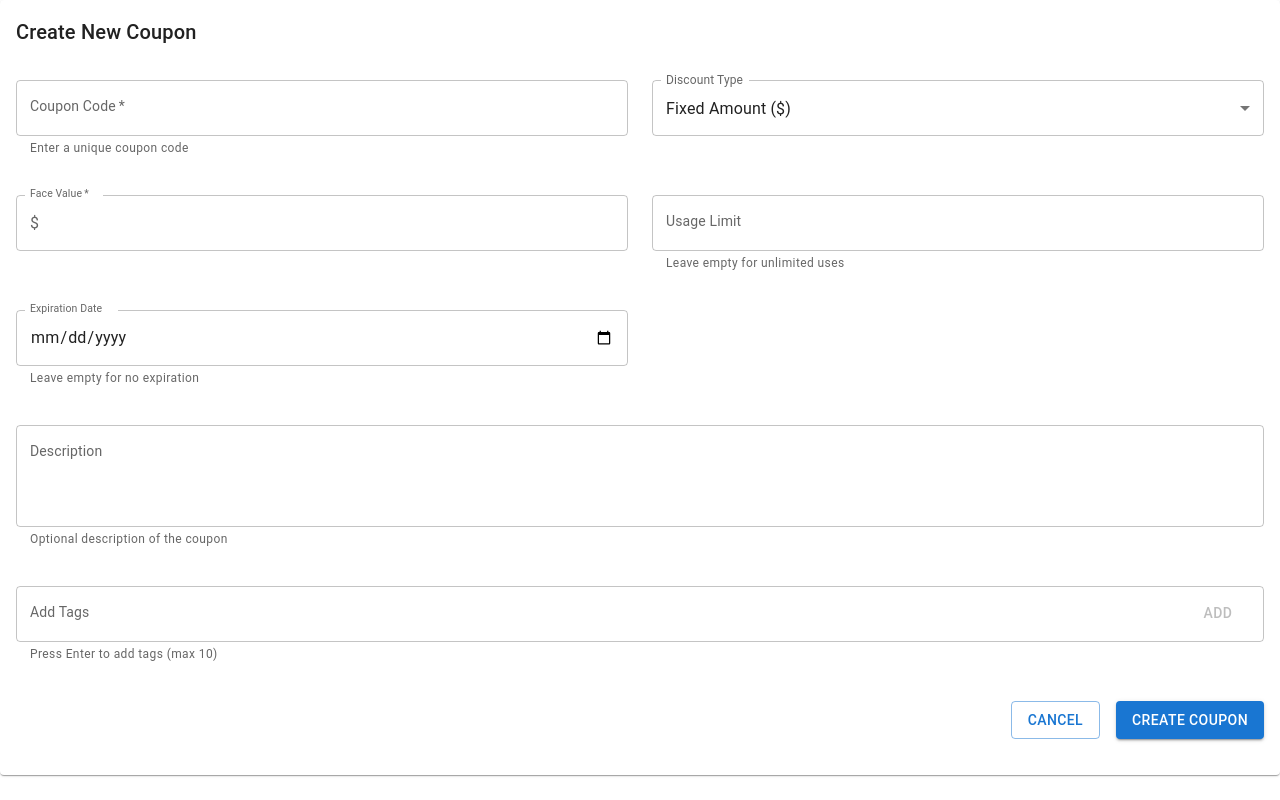
Test case: CouponForm Basic Tests › handles tag addition
Add a tag
Type "grocery" into the field labelled "Add Tags" at (597, 614), box [16, 586, 1178, 642]
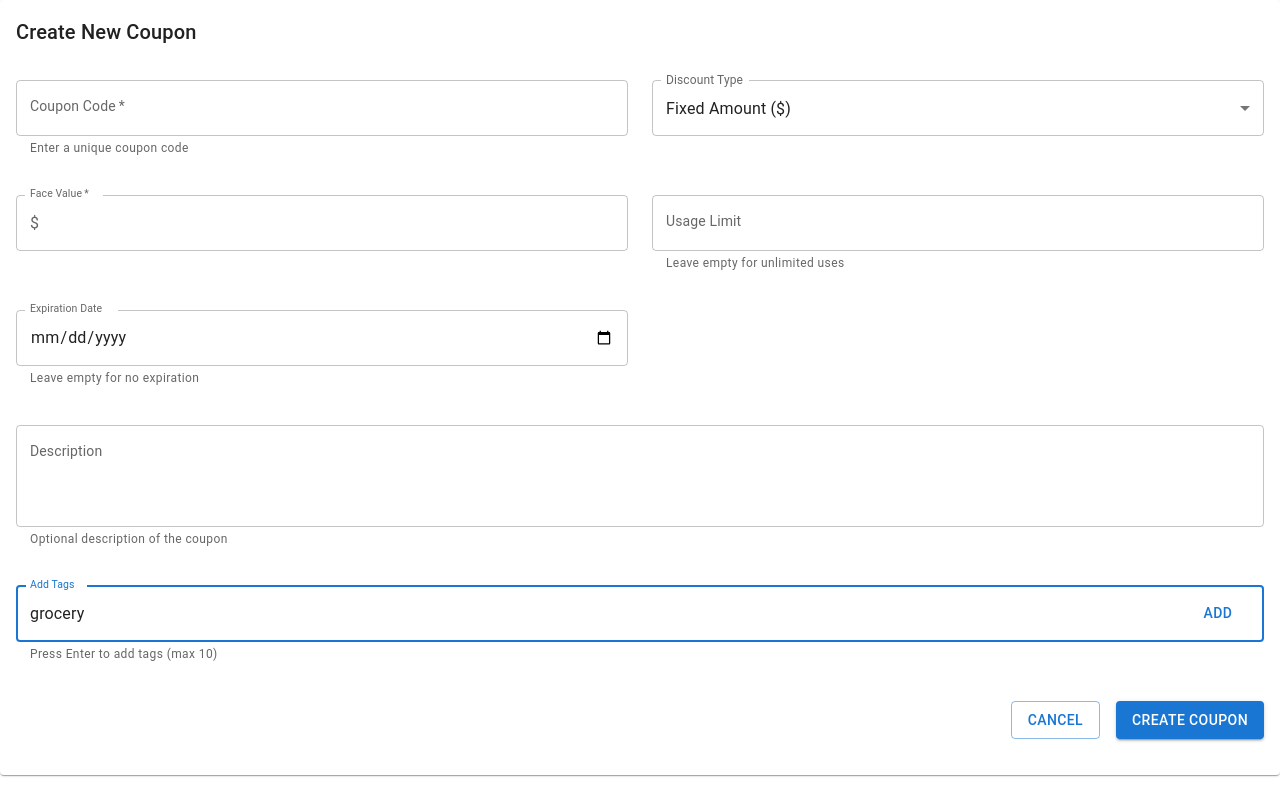
Click the button "Add" at (1218, 614), box [1186, 595, 1250, 632]
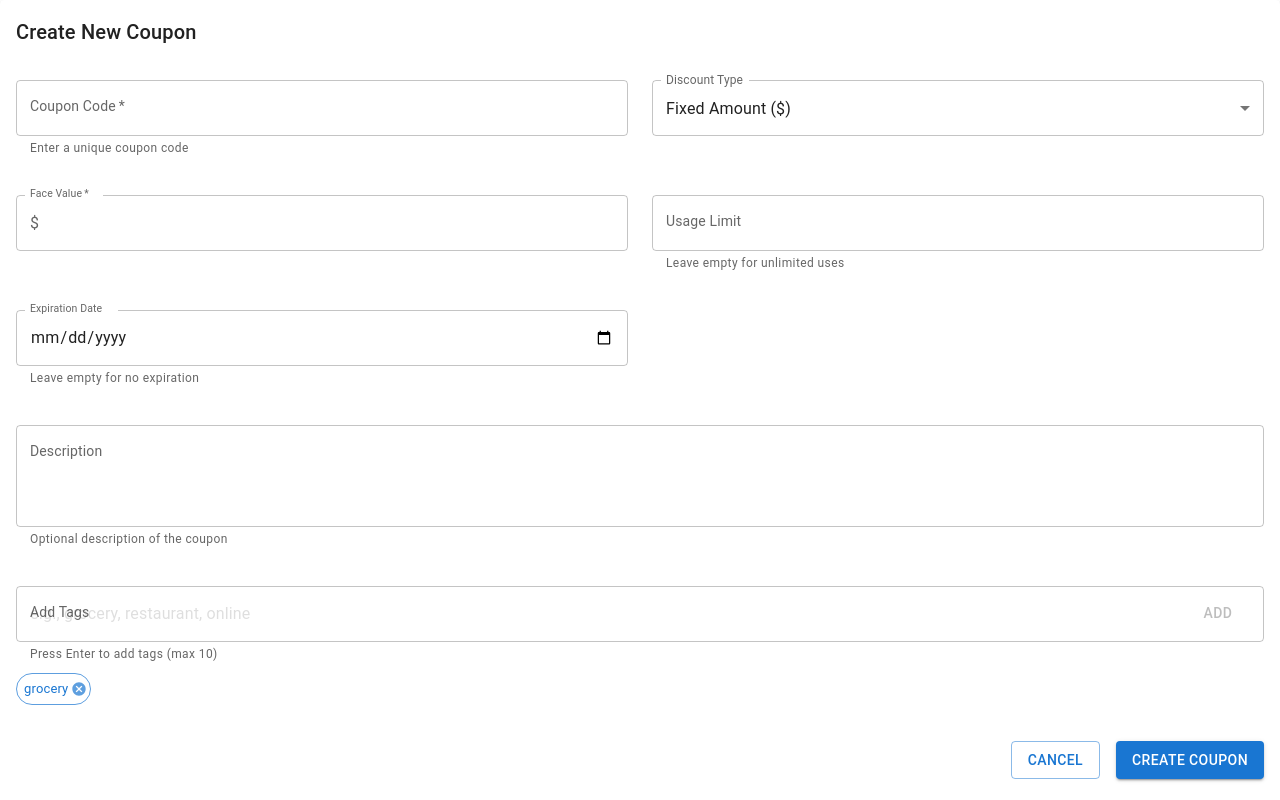
Result: the text "grocery" is shown at [24, 681, 68, 696]
Result: the field labelled "Add Tags" is empty at [16, 586, 1178, 642]
